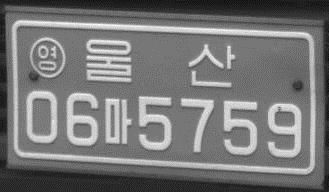0: (24, 88, 60, 144)
5: (220, 98, 260, 157), (136, 93, 173, 151)
6: (65, 90, 99, 147)
7: (177, 95, 216, 155)
9: (265, 101, 303, 159)
마: (101, 95, 133, 146)
영: (28, 35, 67, 80)
울산_D: (83, 36, 237, 89)
